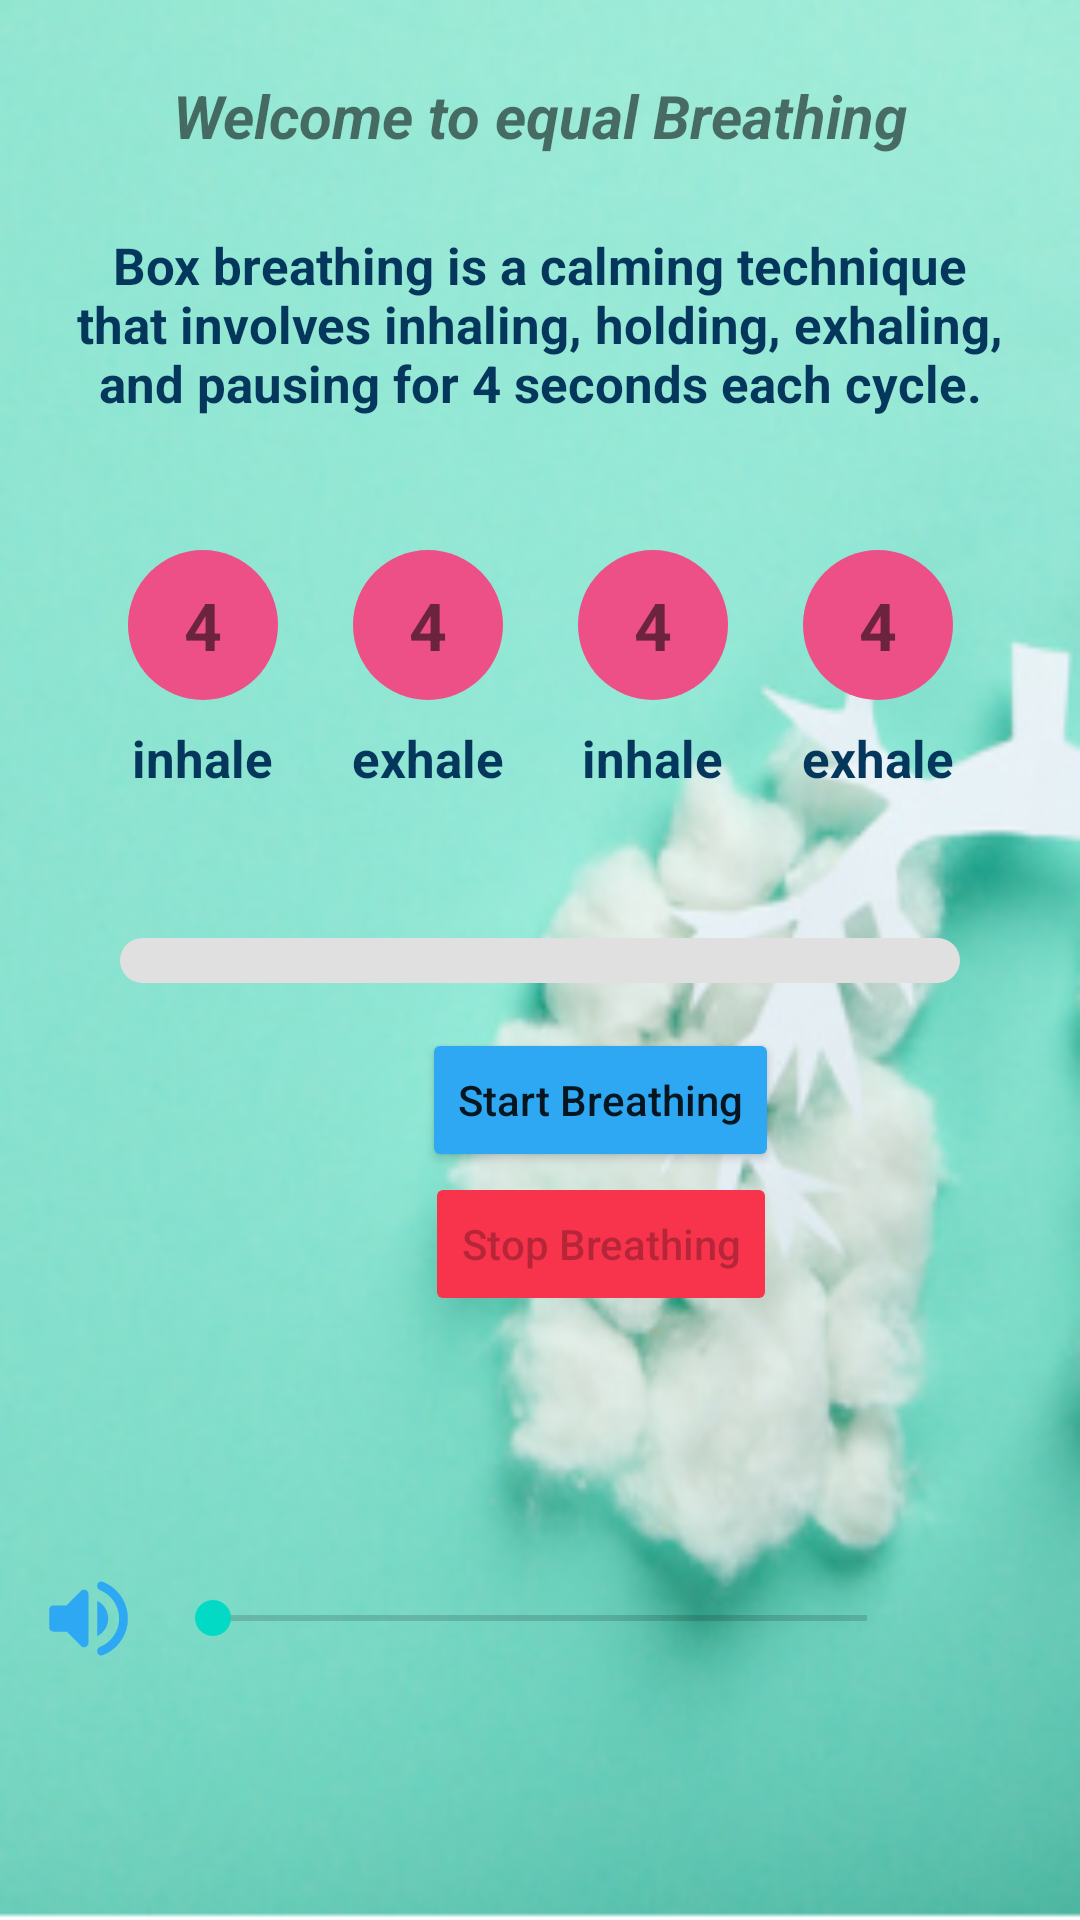

Icon bounding boxes for this 1080*1920 phone screenshot, format (x1, y1, x2, y2):
volume up: (49, 1581, 128, 1656)
